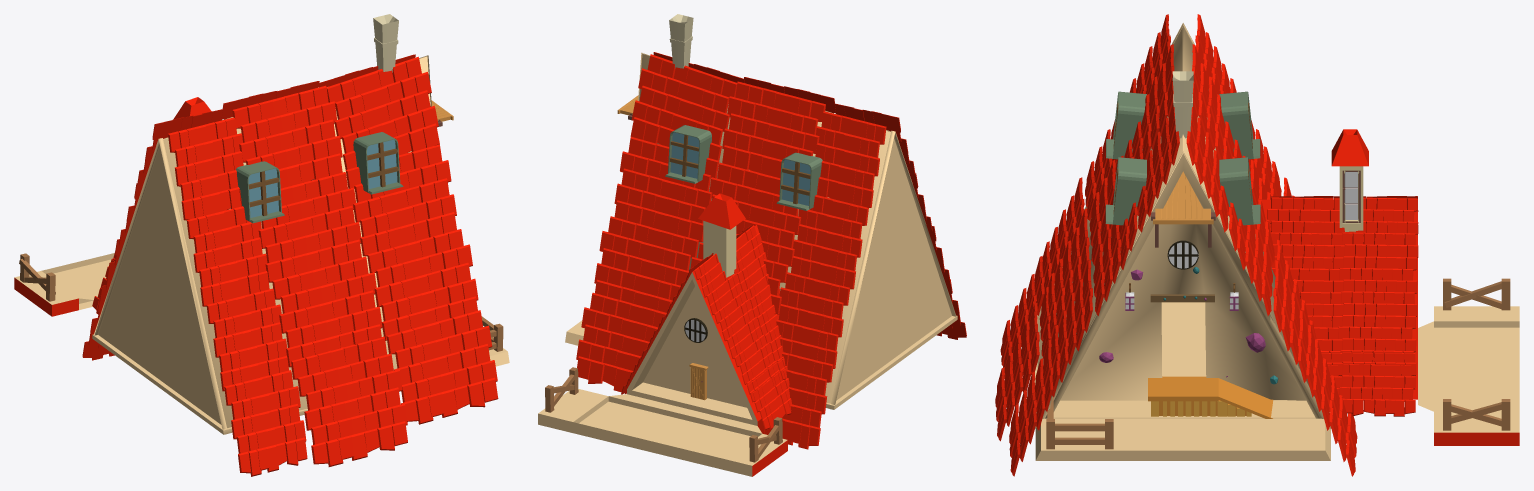
File: LevitatingHouseCenterRed.fbx
The picture shows the model from 3 angles, left to right: view 1: azimuth 30°, elevation 25°; view 2: azimuth 150°, elevation 25°; view 3: azimuth 270°, elevation 25°; orthographic projection. The views are drawn at different scales.
Parts seen in each view (by area): view 1: ROOF, Cube.018, Cube.019; view 2: ROOF, Cube.019, Cube.018, Plane.001, Cube.053, Cube.054, Cube.064, Cylinder.002; view 3: ROOF, Cube.018, Plane.001, Cube.019, Cube.046, Cube.043, Cube.053, Cube.045, Cube.001, Cube.054, Cylinder.001, Cube.
Boxes of the visible parts, x1,y1,x2,y2 form: ROOF: (82, 14, 498, 476); Cube.018: (92, 55, 509, 434); Cube.019: (14, 253, 114, 316); ROOF: (576, 14, 966, 449); Cube.019: (538, 225, 787, 476); Cube.018: (565, 52, 957, 409); Plane.001: (621, 225, 791, 429); Cube.053: (703, 221, 736, 277); Cube.054: (698, 193, 745, 229); Cube.064: (689, 363, 708, 400); Cylinder.002: (684, 318, 707, 342); ROOF: (995, 14, 1357, 476); Cube.018: (1034, 23, 1331, 460); Plane.001: (1267, 196, 1418, 416); Cube.019: (1258, 199, 1519, 445); Cube.046: (1148, 376, 1218, 401); Cube.043: (1153, 171, 1213, 224); Cube.053: (1339, 166, 1363, 232); Cube.045: (1151, 400, 1251, 416); Cube.001: (1218, 378, 1273, 418); Cube.054: (1331, 129, 1368, 166); Cylinder.001: (1167, 240, 1198, 269); Cube: (1150, 294, 1214, 302).
Bounding box in the file's own units: 1168 × 1376 × 1624.
